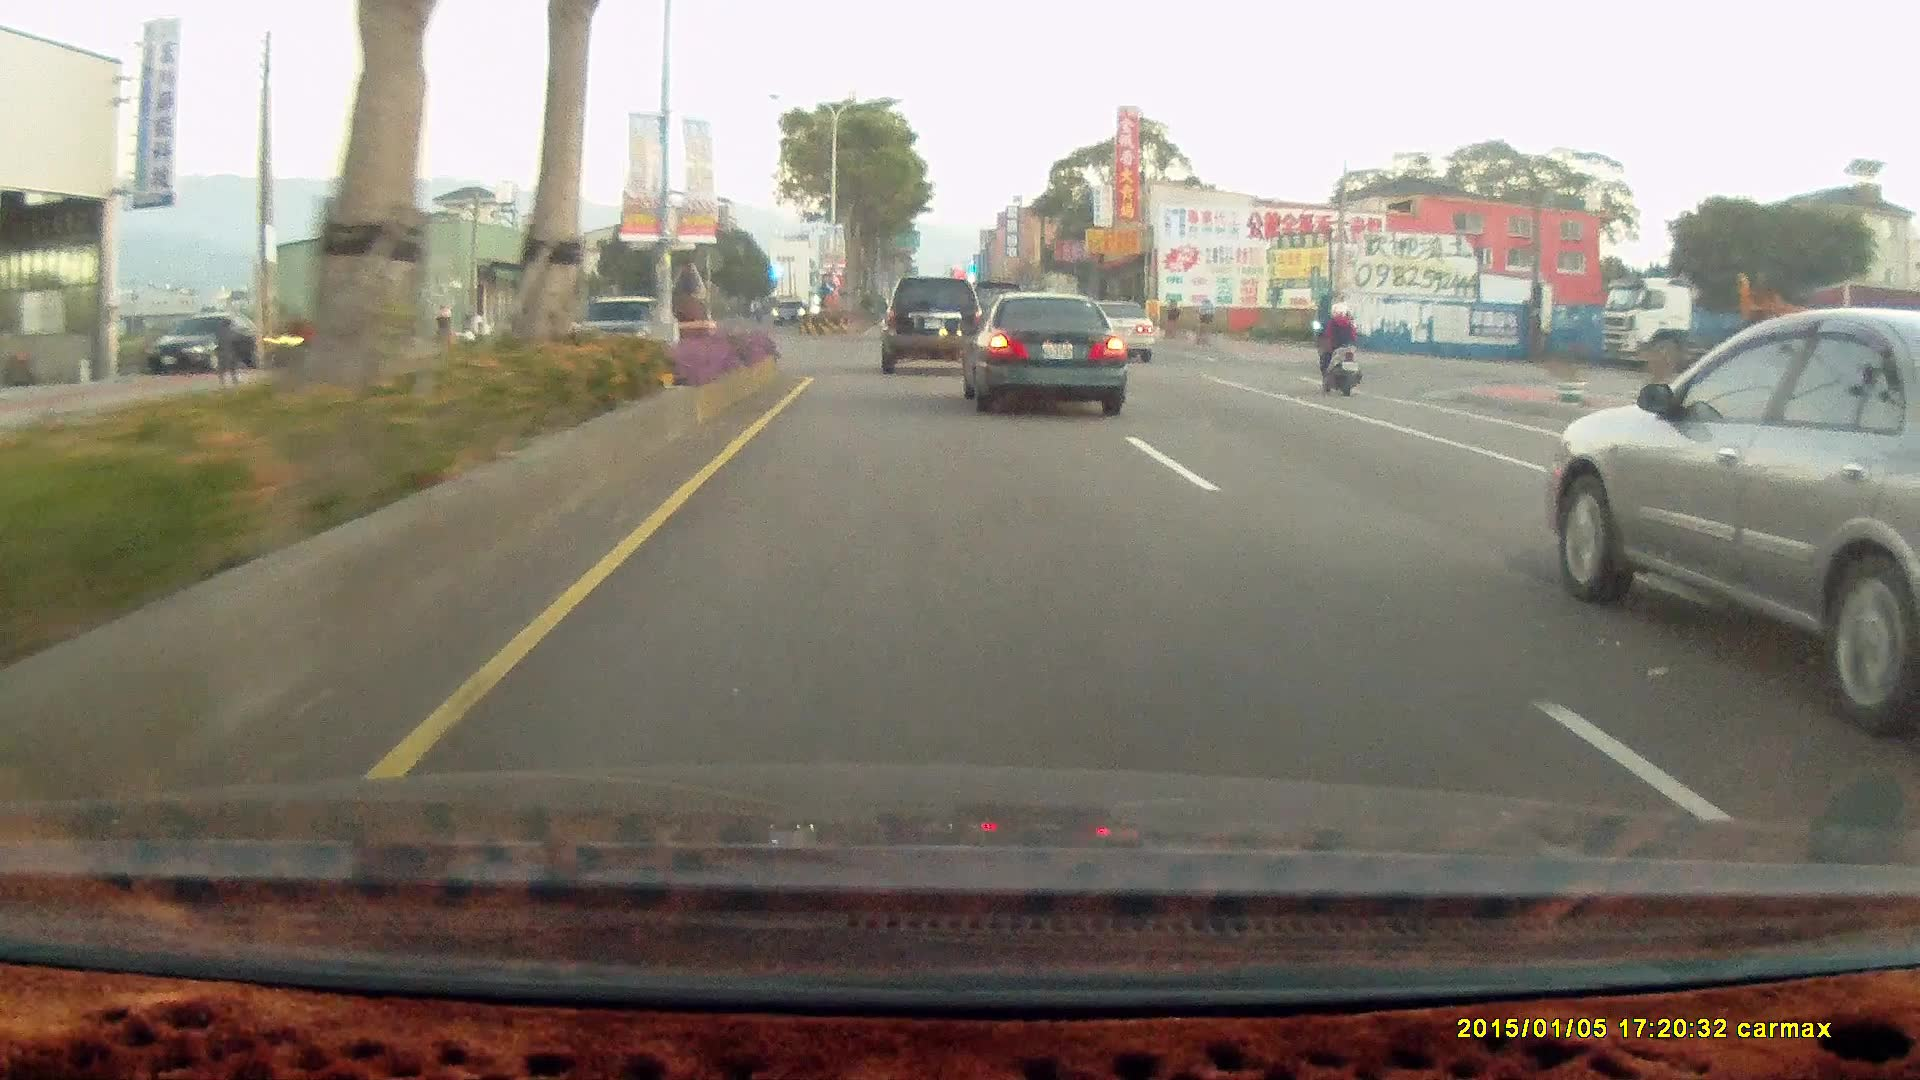pedestrian: (213, 315, 241, 385)
rider: (1304, 294, 1371, 406), (1309, 292, 1365, 389)
vehicle: (1543, 308, 1920, 740), (1599, 274, 1920, 372), (952, 289, 1120, 412), (967, 293, 1132, 414), (880, 274, 988, 374), (879, 276, 982, 375), (565, 292, 681, 372), (139, 310, 246, 376), (145, 313, 252, 375), (1074, 299, 1158, 365), (770, 299, 808, 325)
